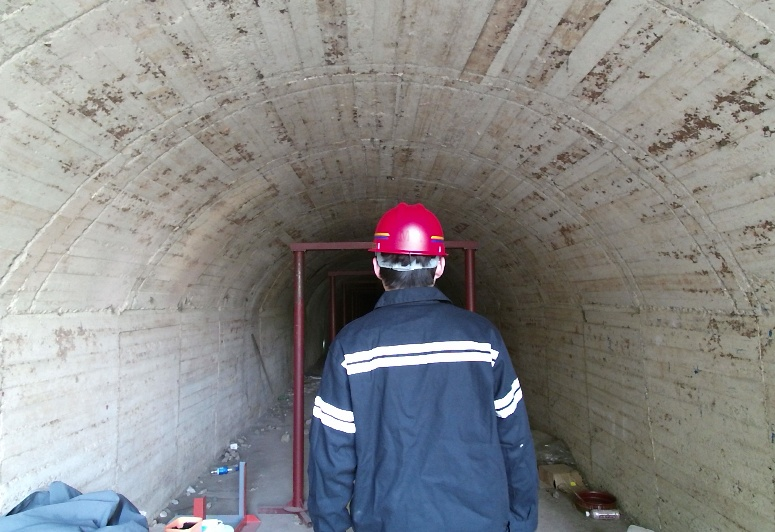person: (307, 203, 571, 532)
